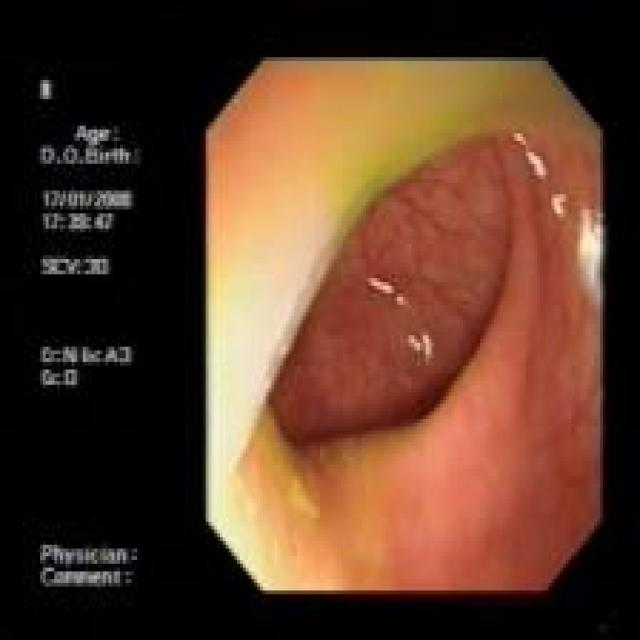color misalignment: (35, 77, 147, 593), (317, 58, 583, 137), (318, 136, 369, 223), (370, 136, 443, 181)
saturation: (208, 132, 322, 580)
specularity: (578, 208, 605, 306), (408, 332, 434, 361), (525, 148, 547, 179), (369, 278, 395, 296), (553, 193, 565, 216), (395, 294, 408, 309)
